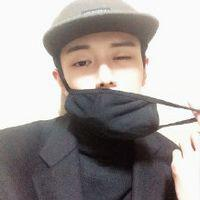WRONG: (62, 37, 150, 125)
